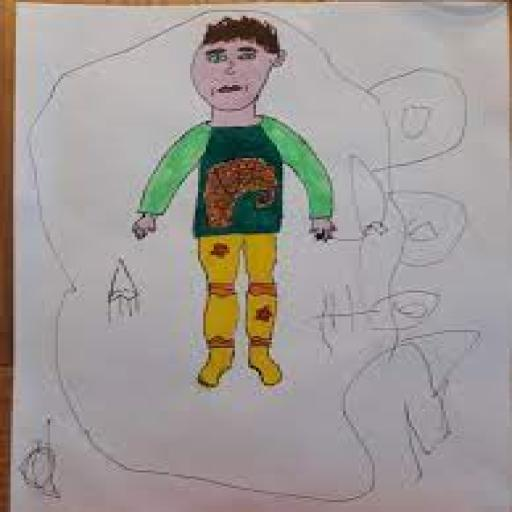person: (130, 12, 349, 398)
